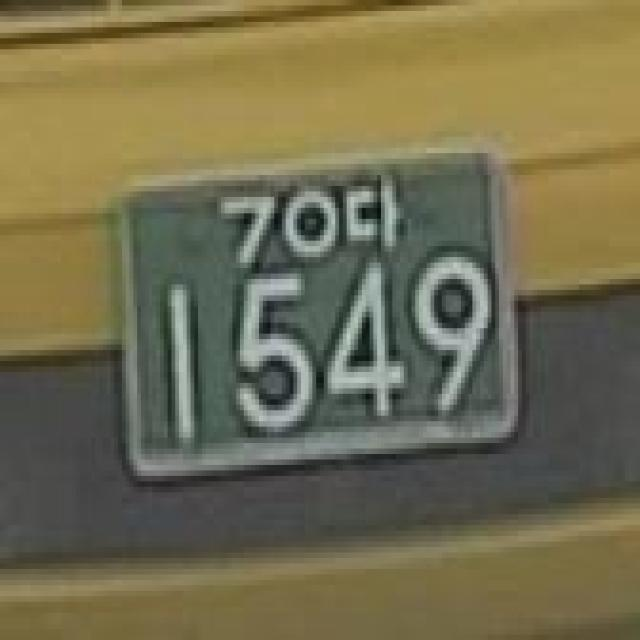illegal_plate: (113, 140, 521, 488)
